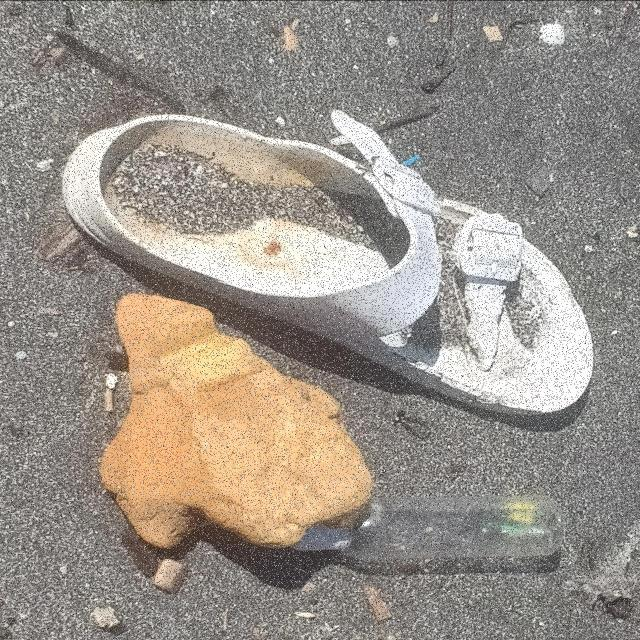plastic_waste: (299, 495, 566, 559)
rubber_waste: (62, 110, 595, 417)
